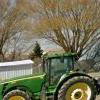Tractor: (4, 46, 96, 100)
